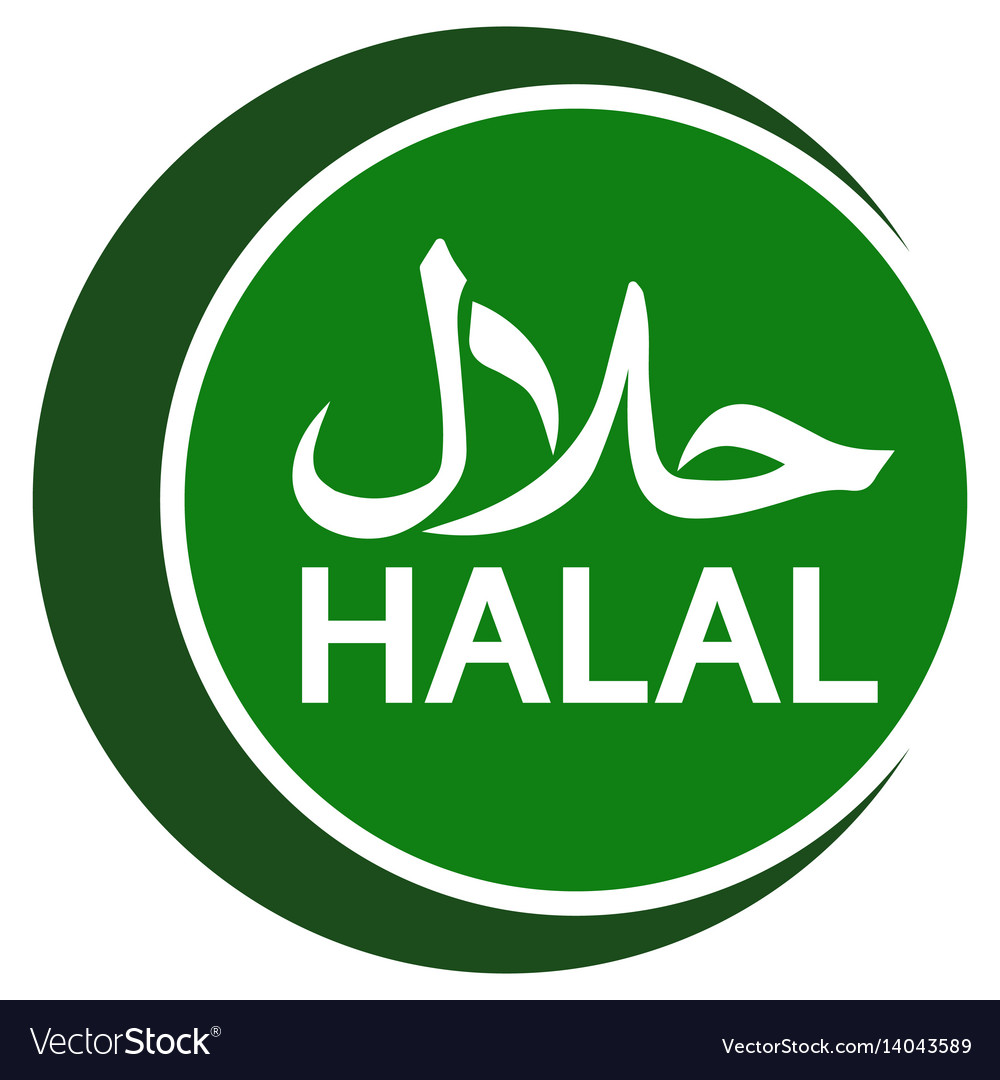Halal: (28, 22, 972, 980)
